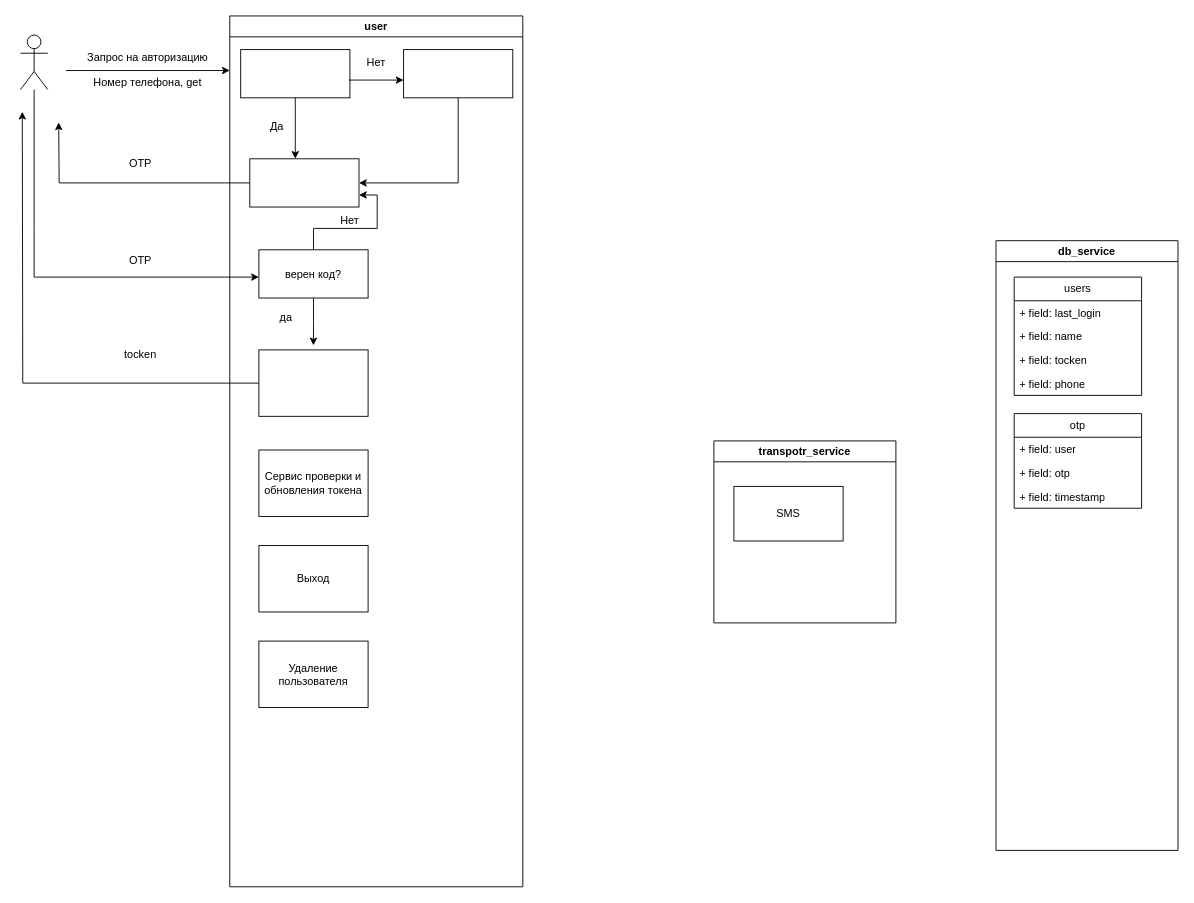
This 1194x903 diagram has some shape labels left out. The centre of each missing label's shape, as x and y in pixels:
"Actor" goes at pixel 34 62.
"генерируем, сохраняем в БД или кэш и отправляем код для проверки" goes at pixel 304 182.
"генерируем, сохраняем в БД или кэш и отправляем токен пользователю" goes at pixel 313 382.
"Проверим существует ли пользователь" goes at pixel 295 73.
"Создаем пользователя в БД" goes at pixel 458 73.
